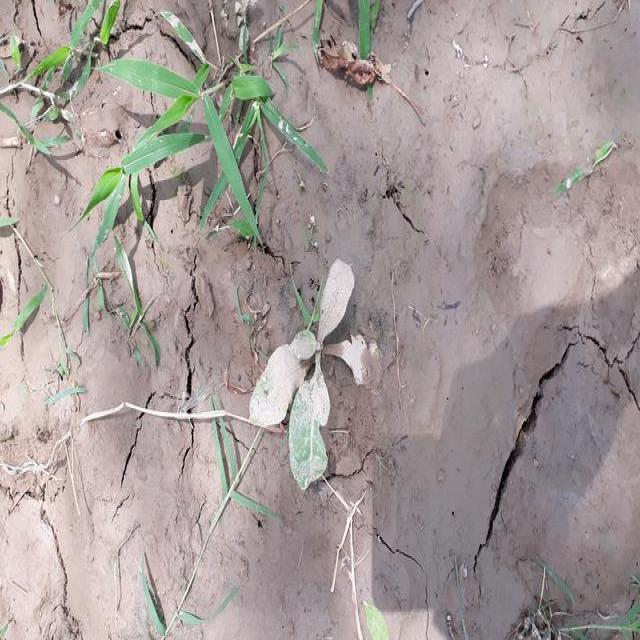crop: (244, 260, 378, 491)
